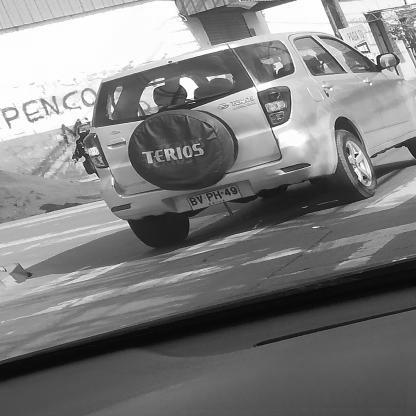Patente: (186, 184, 246, 213)
